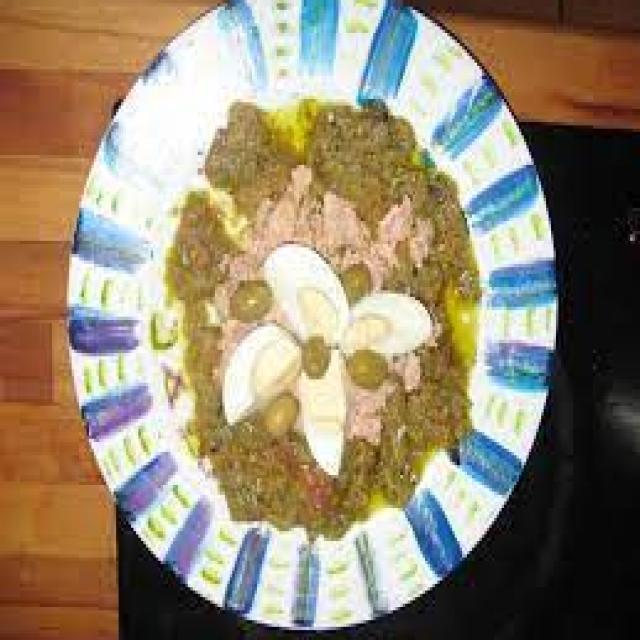Salade mechweya: (119, 80, 560, 573)
